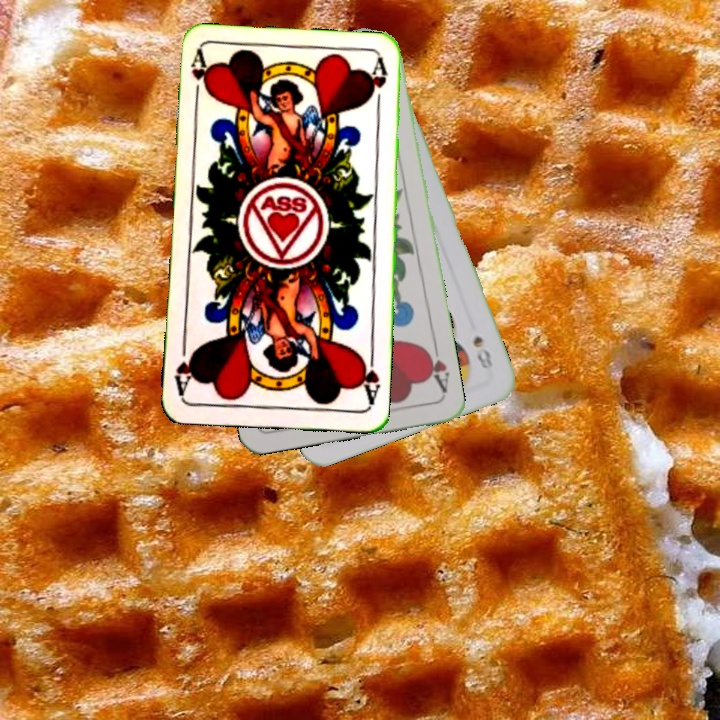HA: (420, 338, 452, 395), (355, 348, 382, 407), (186, 48, 212, 107)
S8: (469, 332, 496, 375)
